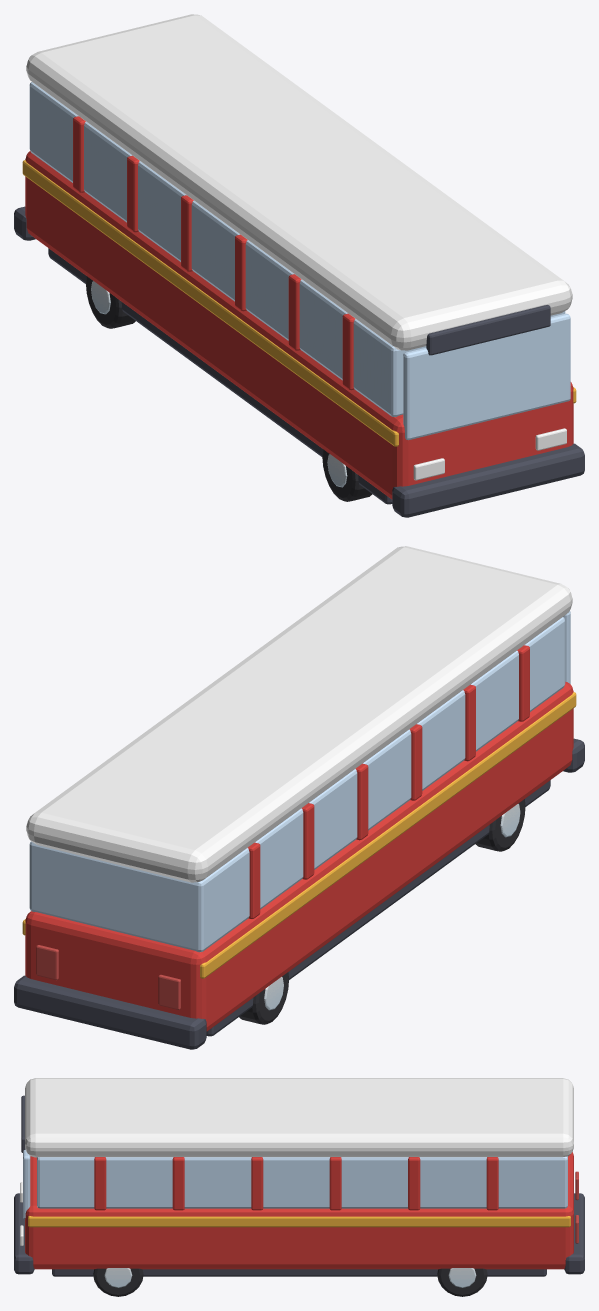
File: toy-bus.glb
3 renders of one model, top to bottom at view 1: azimuth 30°, elevation 25°; view 2: azimuth 150°, elevation 25°; view 3: azimuth 270°, elevation 25°, orthographic. The views are drawn at different scales.
Visible parts, largest first — view 1: body, wheel-front-right.001, wheel-back-right.001; view 2: body, wheel-front-right.001, wheel-back-right.001; view 3: body, wheel-front-left.001, wheel-back-left.001.
Part boxes in pixels (box(x1,y1,x2,y2)): body: box(14, 14, 584, 517); wheel-front-right.001: box(322, 449, 372, 501); wheel-back-right.001: box(86, 276, 135, 328); body: box(14, 546, 584, 1049); wheel-front-right.001: box(475, 799, 525, 851); wheel-back-right.001: box(239, 972, 288, 1024); body: box(14, 1078, 584, 1276); wheel-front-left.001: box(93, 1268, 143, 1296); wheel-back-left.001: box(437, 1268, 487, 1296).
Bounding box in the file's own units: 1.83 × 2.11 × 6.76.
1 material, 1 textured.
